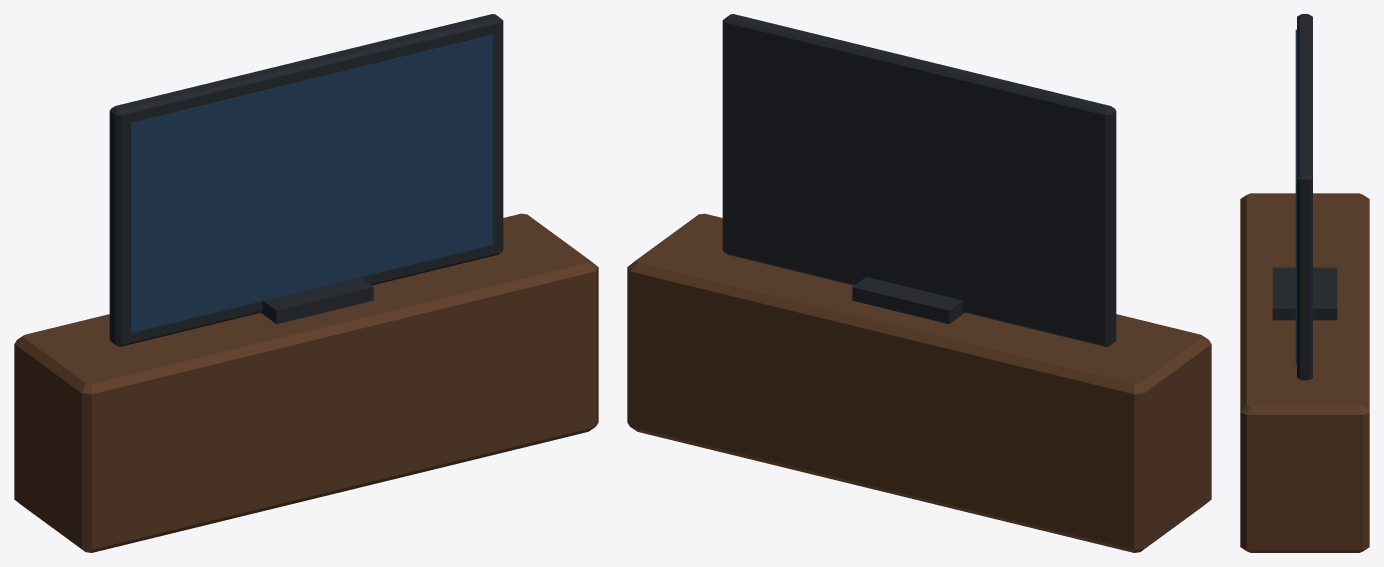
File: tv_stand.glb
3 views of the same model, side by side, from view 1: azimuth 30°, elevation 25°; view 2: azimuth 150°, elevation 25°; view 3: azimuth 270°, elevation 25° (orthographic). The views are drawn at different scales.
Visible parts, largest first — view 1: tv_stand; view 2: tv_stand; view 3: tv_stand.
Boxes of the visible parts, x1,y1,x2,y2 form: tv_stand: [14, 14, 598, 552]; tv_stand: [627, 14, 1211, 552]; tv_stand: [1240, 14, 1369, 552].
Bounding box in the file's own units: 1.6 × 1.2 × 0.4.
